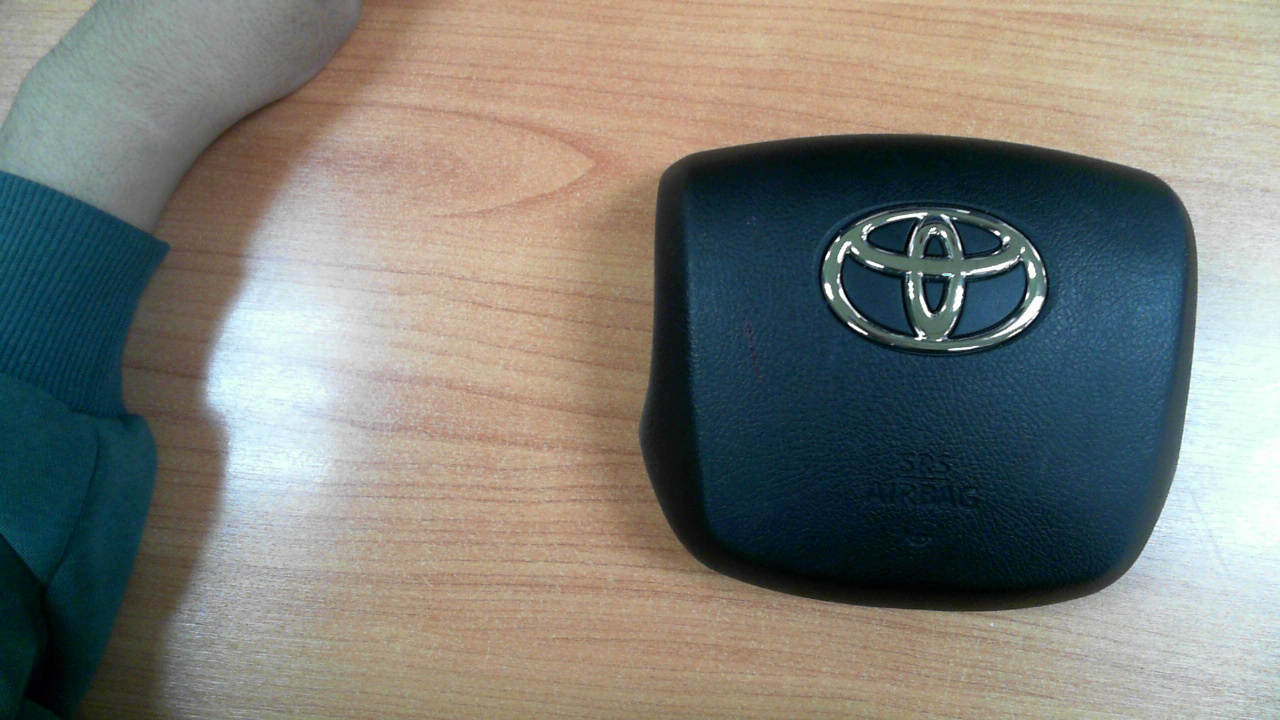Airbag: (639, 138, 1206, 611)
Toyota: (821, 205, 1049, 357)
